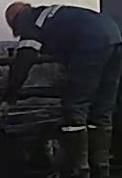helmet: (4, 1, 31, 38)
vest: (15, 5, 122, 62)
